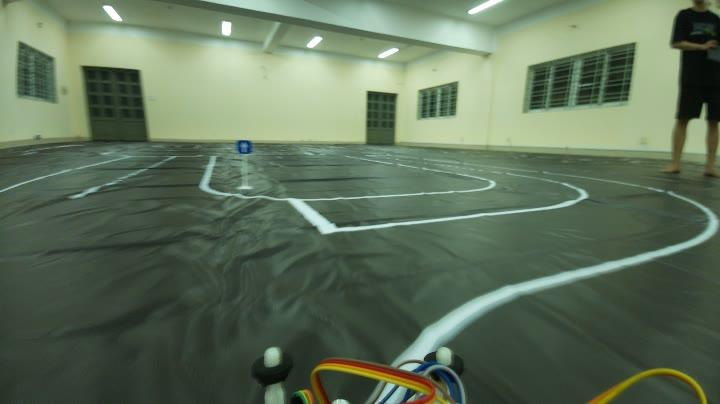onewayroad: (231, 136, 255, 156)
